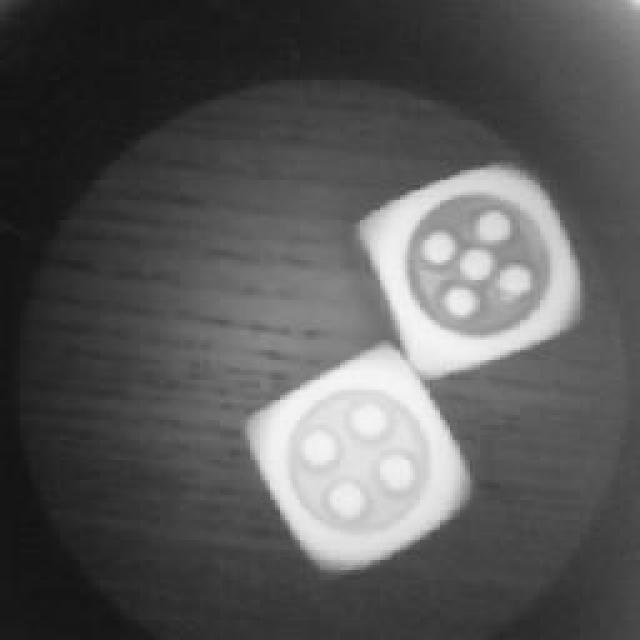dice_4: (238, 348, 480, 578)
dice_5: (360, 158, 588, 372)
